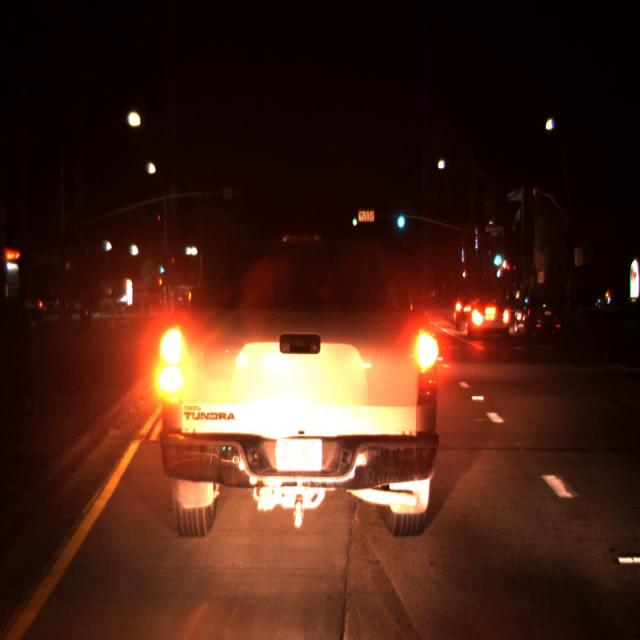go: (394, 202, 406, 232), (491, 240, 503, 270)
go left: (351, 210, 358, 228), (158, 260, 165, 276)
go left traffic light: (351, 210, 358, 228), (158, 260, 165, 276)
go traffic light: (394, 202, 406, 232), (491, 240, 503, 270)
